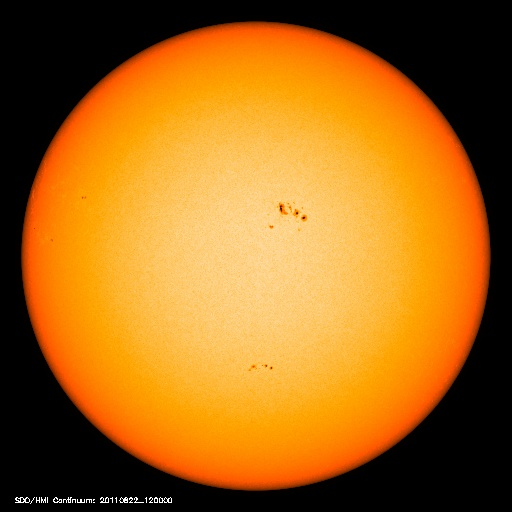sunspot: (255, 195, 311, 236), (240, 353, 281, 383)
